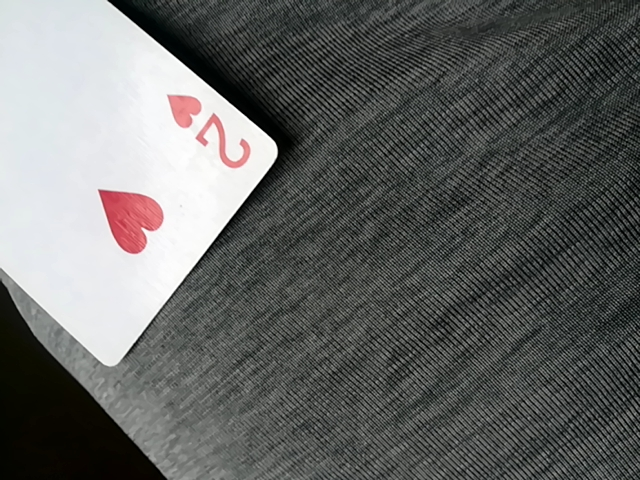hx 2: (1, 1, 282, 371)
